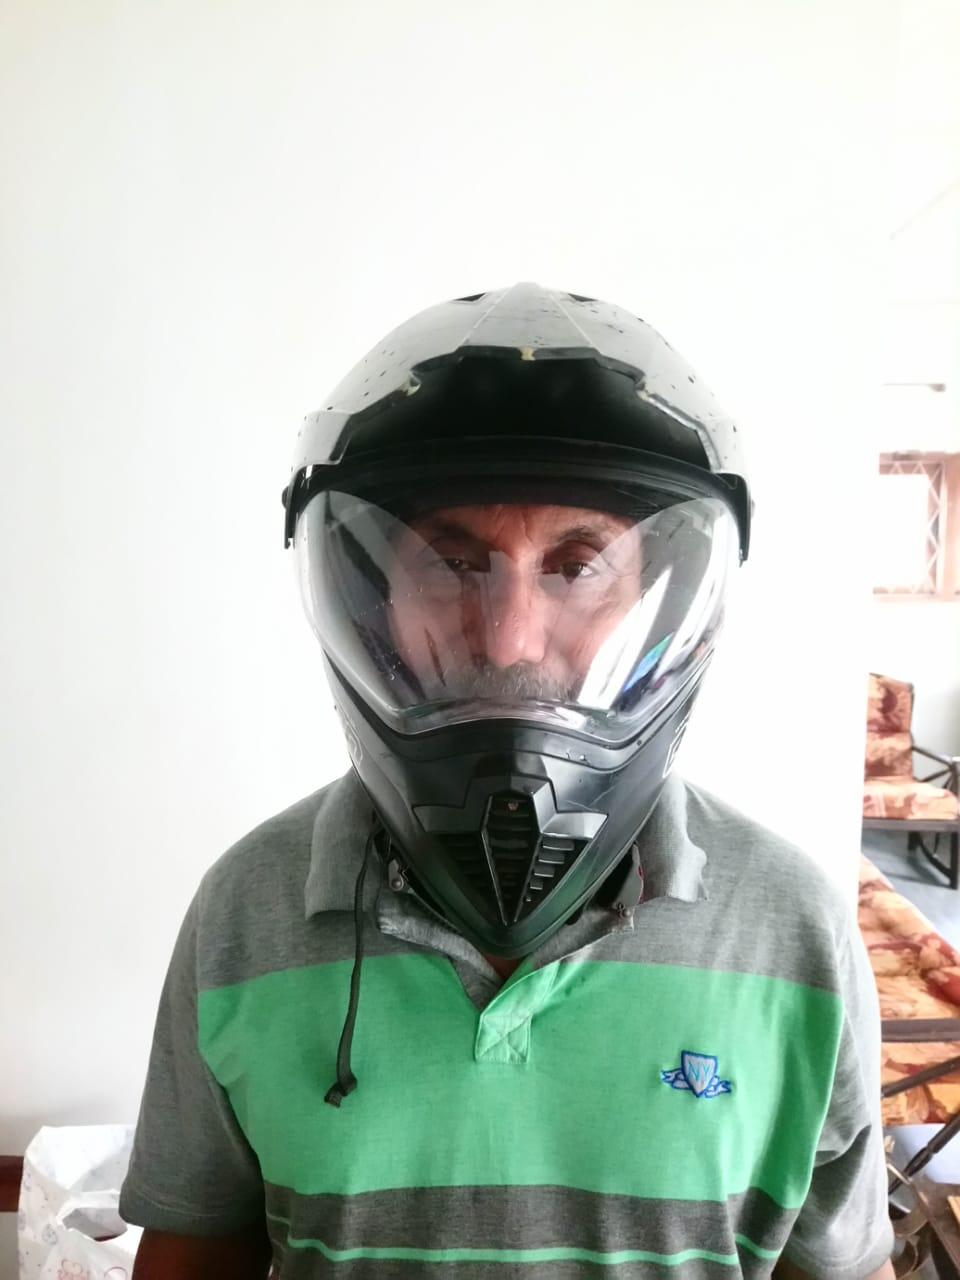helmet: (281, 282, 752, 964)
